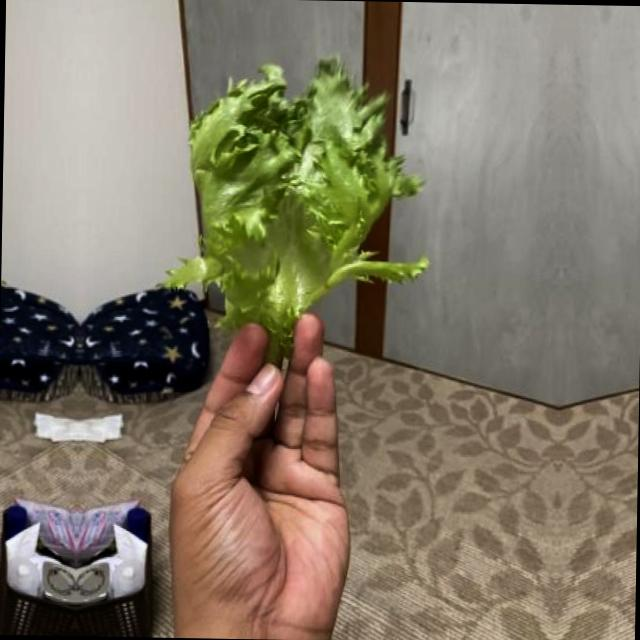healthy: (164, 54, 434, 352)
